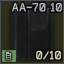Remington M700 .308 ProMag AA-70 10-round magazine: (0, 0, 64, 64)
